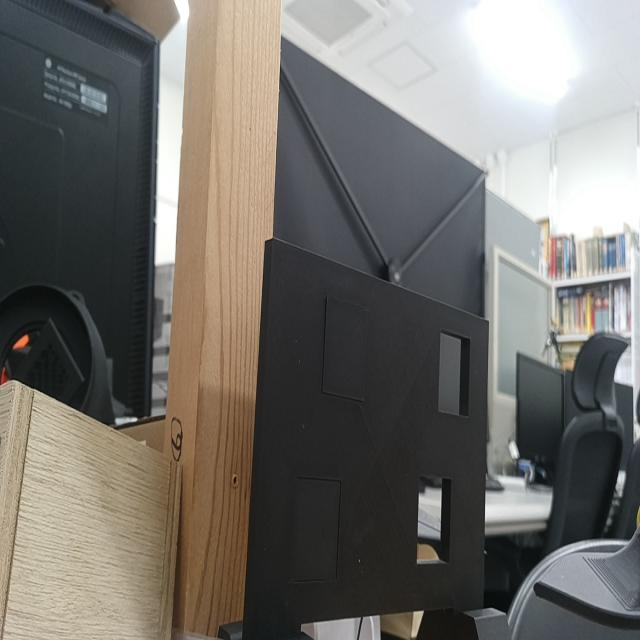Obstacle: (439, 332, 472, 417), (418, 479, 450, 563)
Wall: (256, 238, 491, 626)
